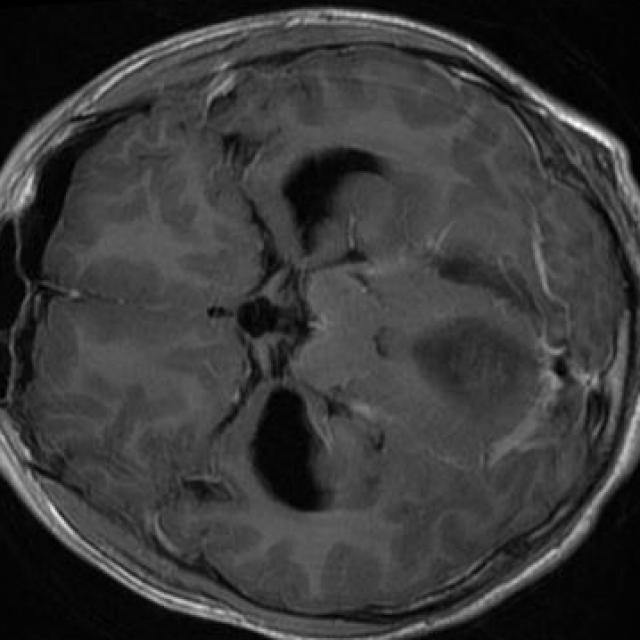glioma: (412, 317, 540, 412)
